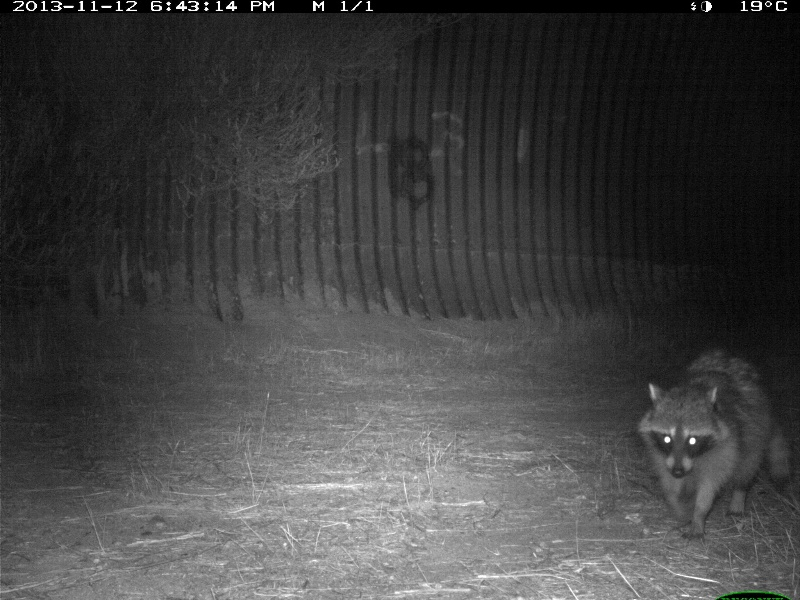raccoon: (632, 347, 791, 540)
